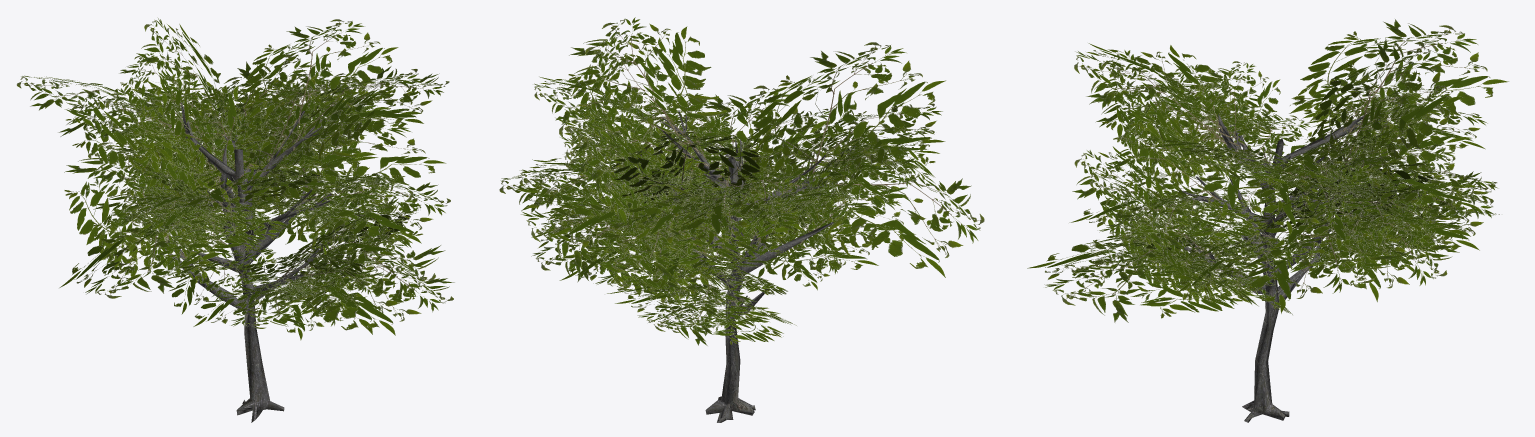
Rendered from TreeHighQualityOptimized.fbx.
The picture shows the model from 3 angles, left to right: view 1: azimuth 30°, elevation 25°; view 2: azimuth 150°, elevation 25°; view 3: azimuth 270°, elevation 25°; orthographic projection. The views are drawn at different scales.
Visible parts, largest first — view 1: TreeHighQuality.001; view 2: TreeHighQuality.001; view 3: TreeHighQuality.001.
Boxes of the visible parts, x1,y1,x2,y2 form: TreeHighQuality.001: [16, 17, 454, 422]; TreeHighQuality.001: [499, 17, 984, 422]; TreeHighQuality.001: [1027, 19, 1509, 422].
Bounding box in the file's own units: 1677 × 1316 × 1685.
